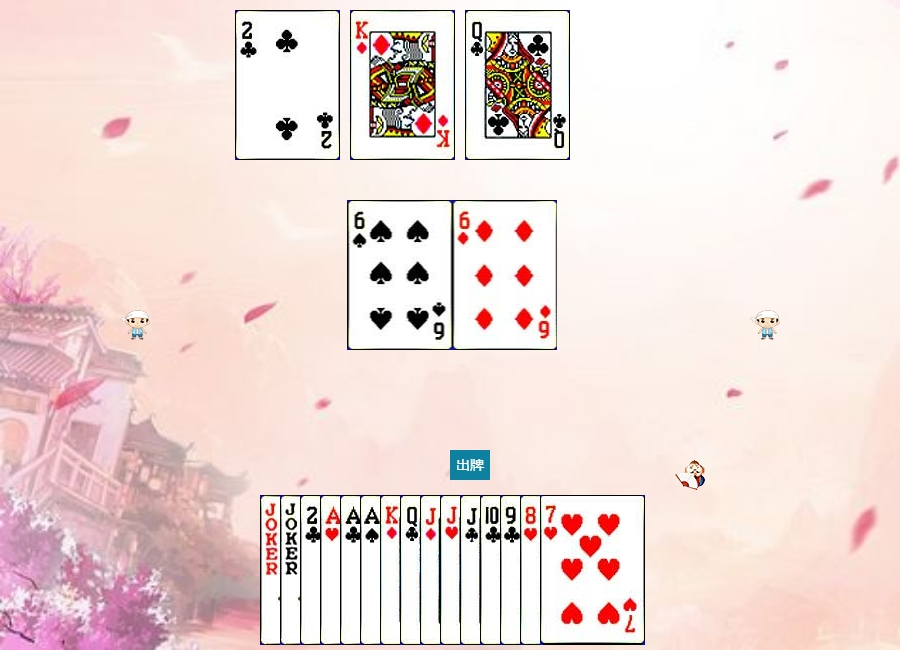10~2: (480, 495, 585, 645)
11~1: (420, 495, 525, 645)
11~2: (460, 495, 565, 645)
11~3: (440, 495, 545, 645)
12~2: (465, 10, 570, 160), (400, 495, 505, 645)
13~1: (350, 10, 455, 160), (380, 495, 485, 645)
14~2: (340, 495, 445, 645)
14~3: (320, 495, 425, 645)
14~4: (360, 495, 465, 645)
15~2: (235, 10, 340, 160), (300, 495, 405, 645)
17~3: (280, 495, 385, 645)
18~4: (260, 495, 365, 645)
6~1: (453, 200, 558, 350)
6~4: (348, 200, 453, 350)
7~3: (540, 495, 645, 645)
8~3: (520, 495, 625, 645)
9~2: (500, 495, 605, 645)
